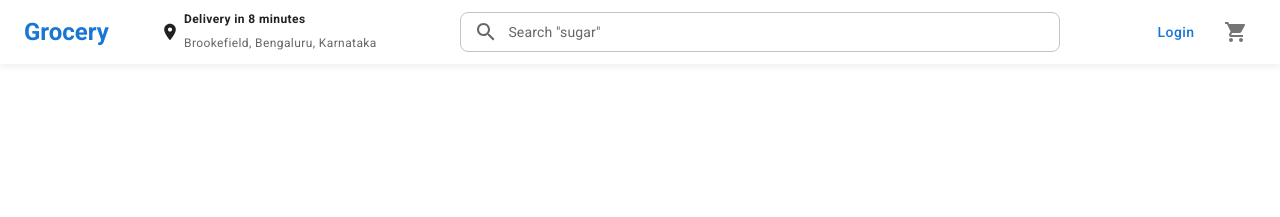
Header Component › filters products by category name in search
The image size is (1280, 217).
Type "dairy" into the field.
click(783, 32); type("dairy")  # box [506, 12, 1060, 52]
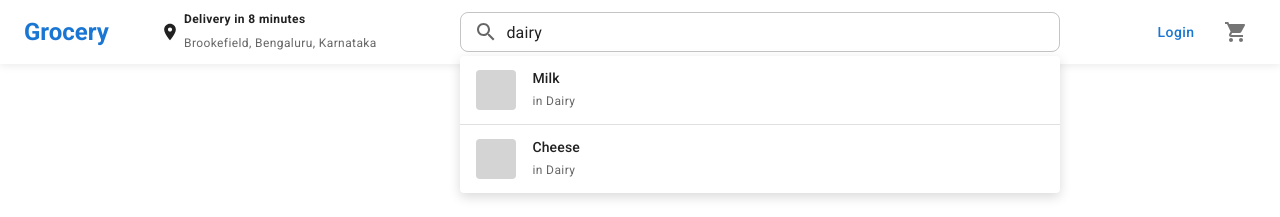
Now the text "Milk" is shown, box [532, 70, 560, 86]
Now the text "Cheese" is shown, box [532, 139, 580, 155]
